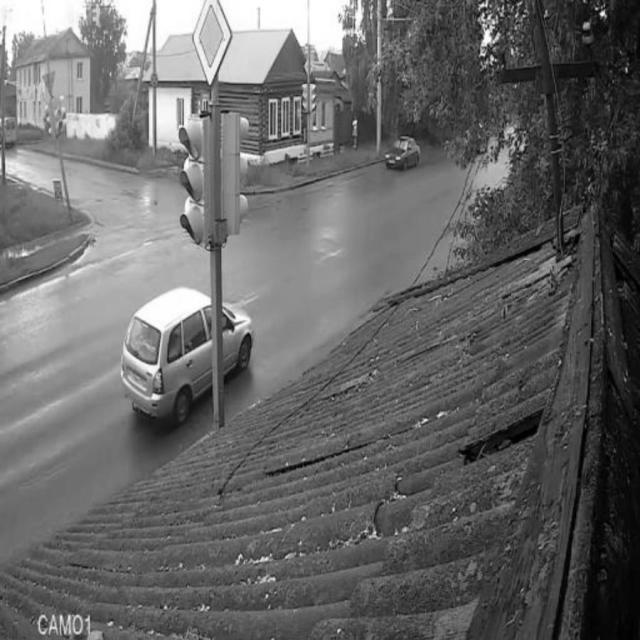vehicle: (119, 283, 253, 420), (384, 136, 422, 176)
